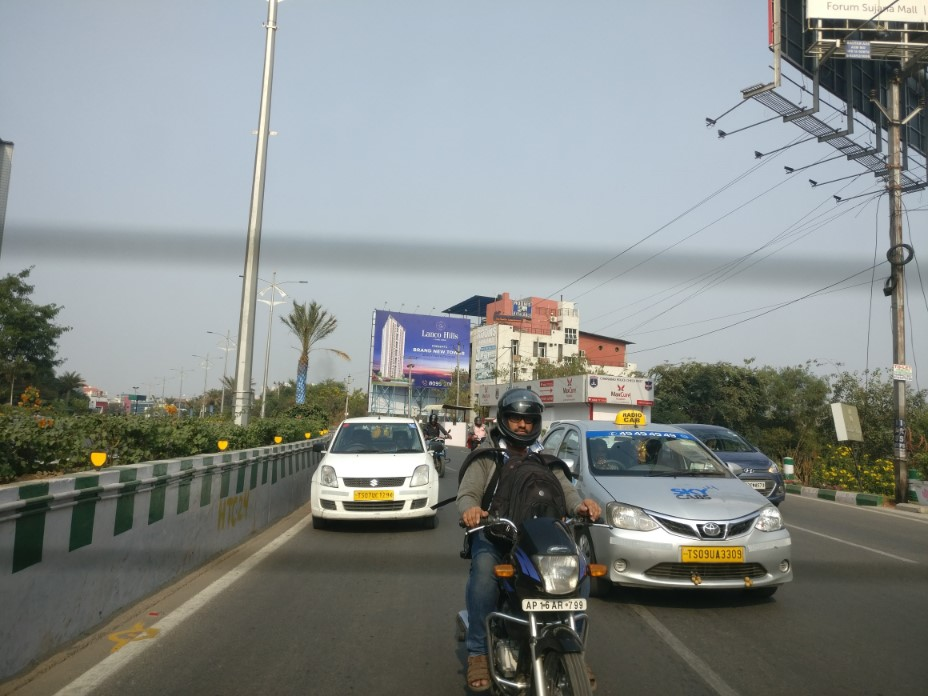swift desire: (305, 414, 443, 528)
